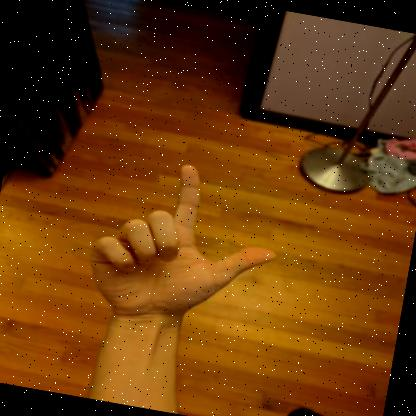L: (89, 164, 276, 329)
